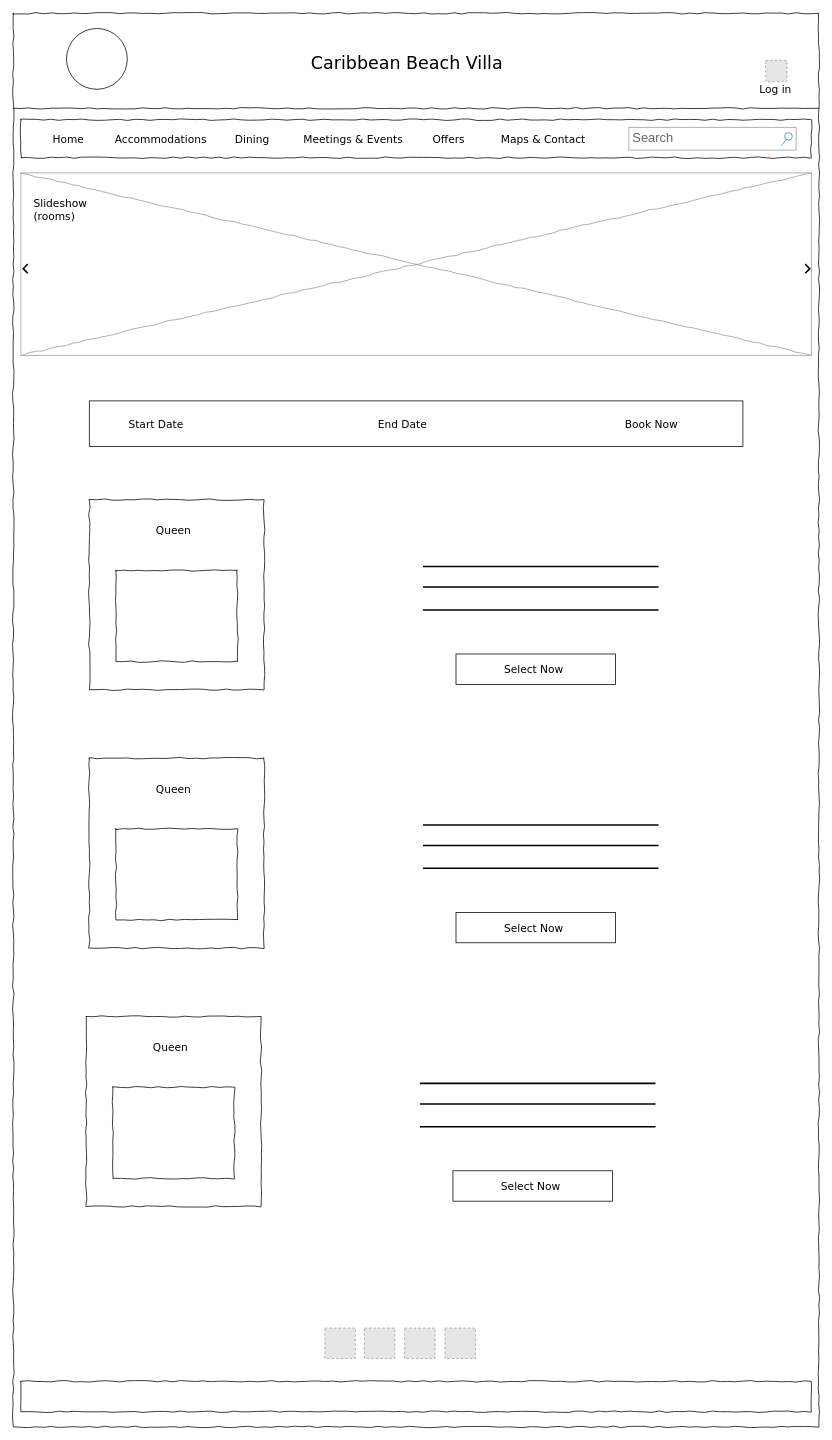
The diagram is 832 pixels wide and 1440 high, and some of its shapes have lost their labels. Grey dashed boxes stand in for pictures. The shapes that lost their labels are listed below. From the top down, each one's centre as x and y in pixels, then its label:
At [96,58]: "Logo".
At [415,1396]: "Footer".
